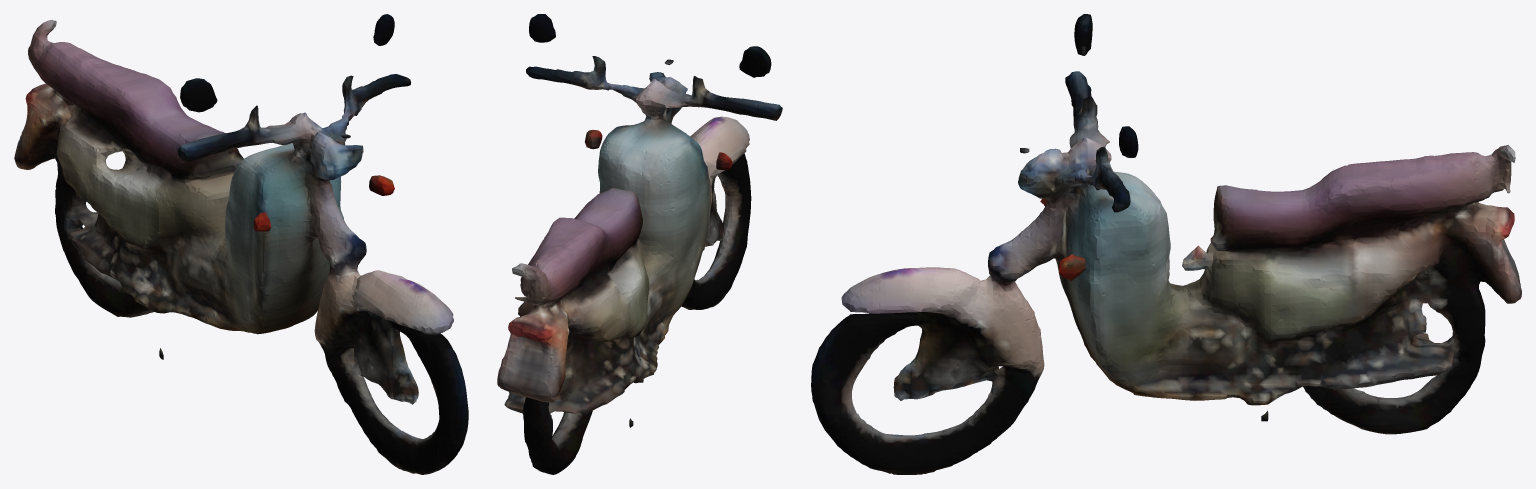
Rendered from ours-conv.glb.
The picture shows the model from 3 angles, left to right: view 1: azimuth 30°, elevation 25°; view 2: azimuth 150°, elevation 25°; view 3: azimuth 270°, elevation 25°; orthographic projection. The views are drawn at different scales.
Visible parts, largest first — view 1: ours.obj; view 2: ours.obj; view 3: ours.obj.
Part boxes in pixels (bbox=[...]): ours.obj: bbox=[14, 14, 468, 474]; ours.obj: bbox=[497, 14, 782, 474]; ours.obj: bbox=[811, 14, 1521, 474].
Size of the model in its own units: 0.8018 by 1.11 by 1.85.
